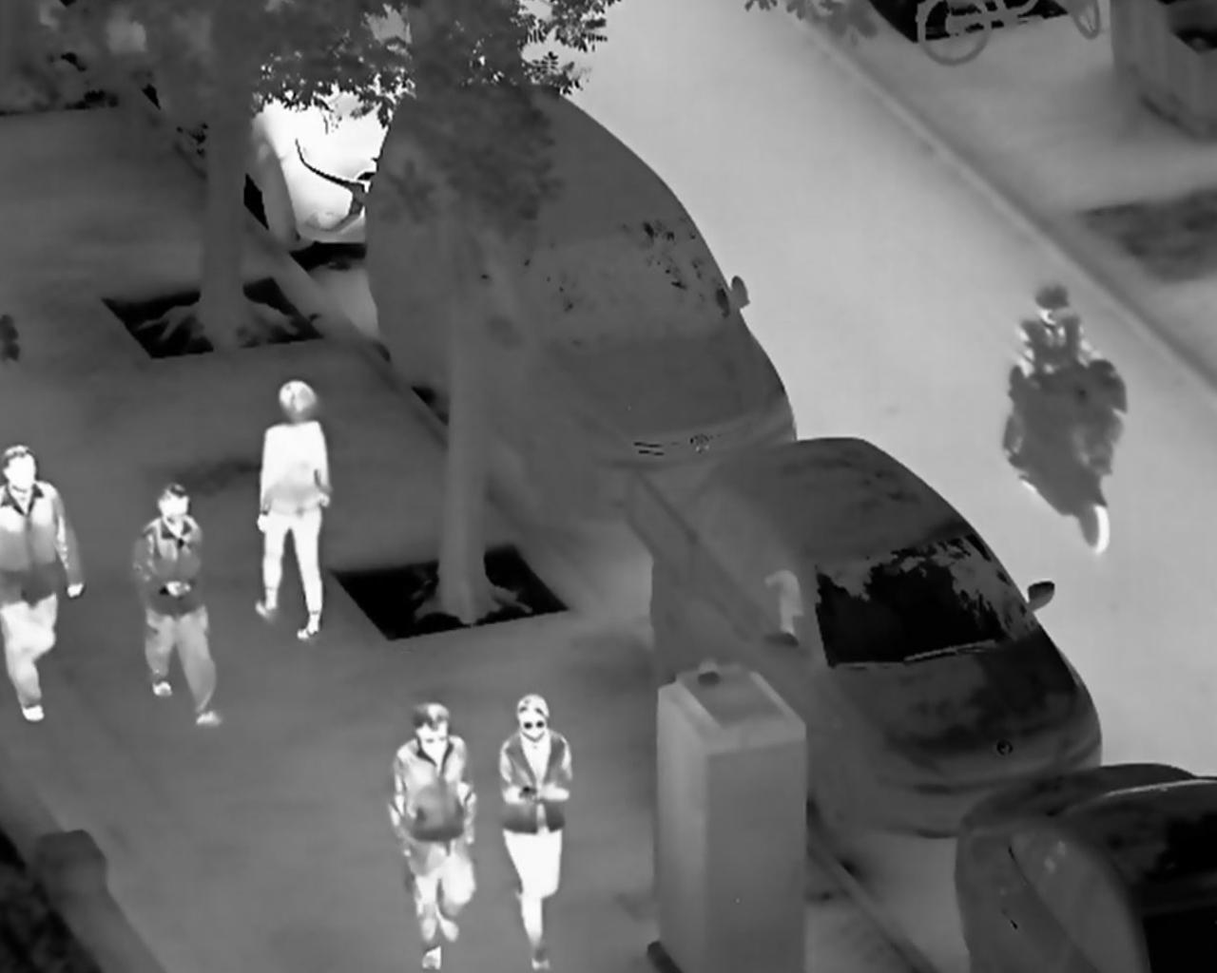person: (382, 701, 479, 973), (2, 442, 87, 726), (131, 484, 228, 728), (496, 694, 575, 973), (253, 374, 332, 643), (1012, 283, 1124, 469)
